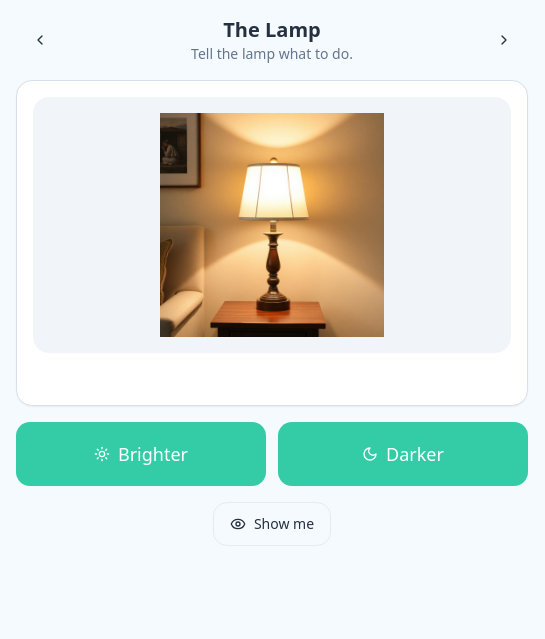
Test: FunctionalScenePlayer — tap playthrough › the cup scene renders its fill overlay and 'more' raises it
Click the button named "next scene": (504,40) [480, 16, 528, 64]
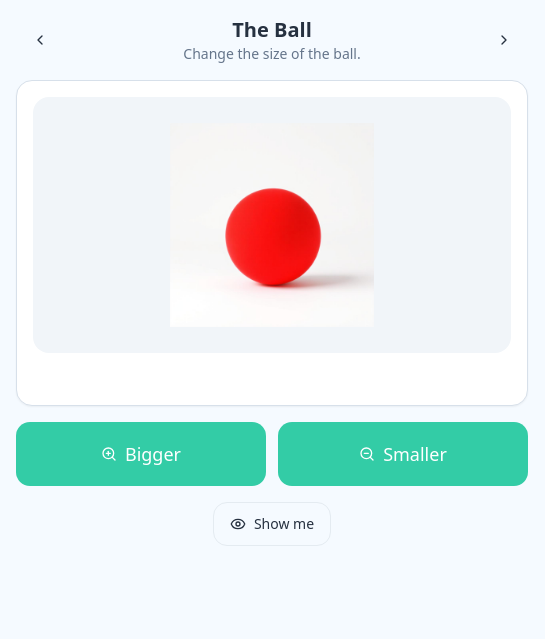
Click the button named "next scene": (504,40) [480, 16, 528, 64]
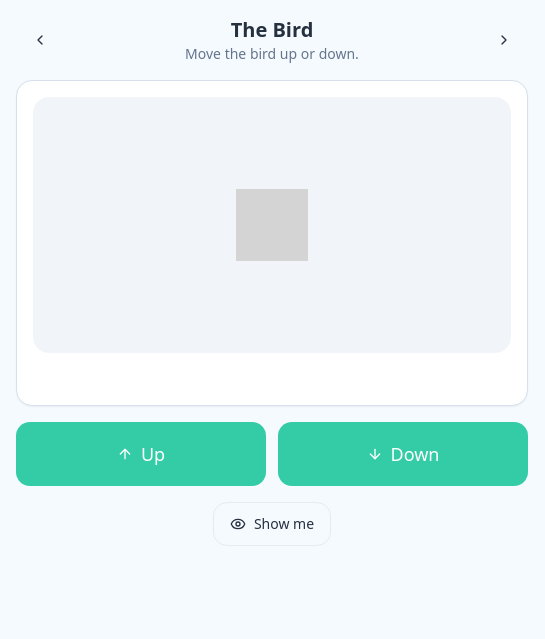
Click the button named "next scene": (504,40) [480, 16, 528, 64]
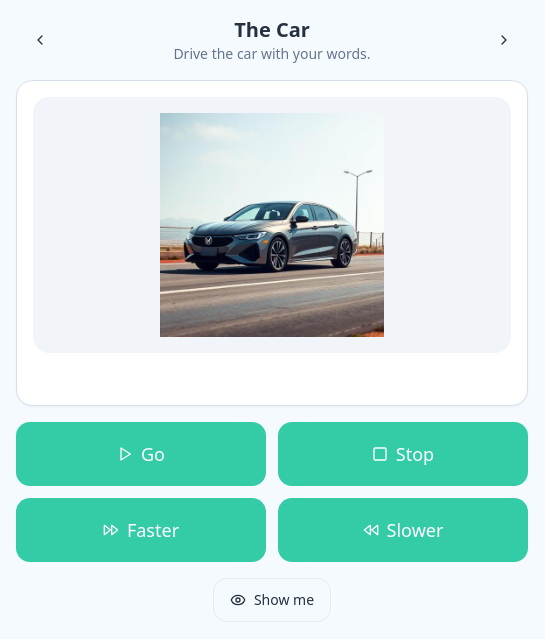
Click the button named "next scene": (504,40) [480, 16, 528, 64]
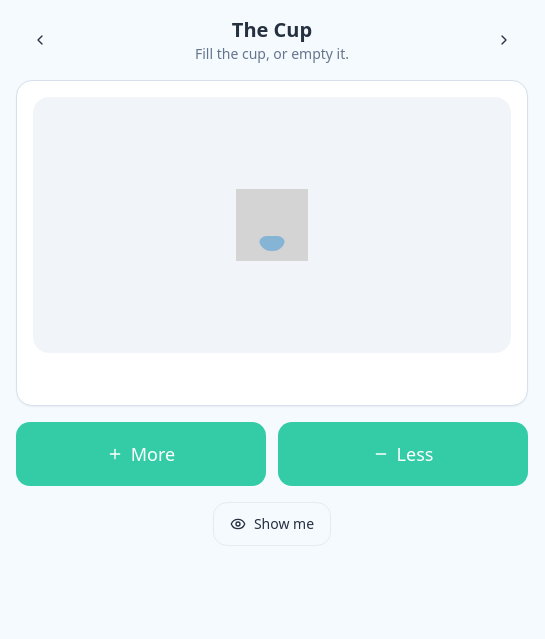
Expected: the heading "The Cup" is shown, [232, 16, 312, 43]
Click the button "more": (141,454) [16, 422, 266, 486]
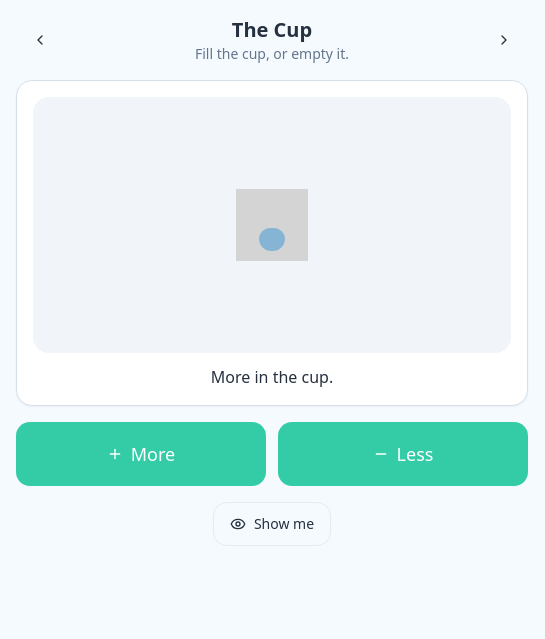
Expected: the message reads "More in the cup.", [211, 366, 333, 388]
